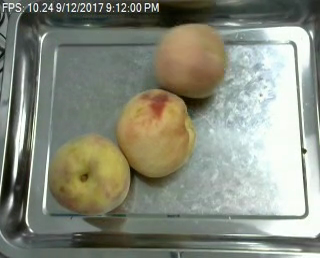Peach: (115, 85, 195, 179), (49, 133, 130, 215), (155, 23, 224, 98)
